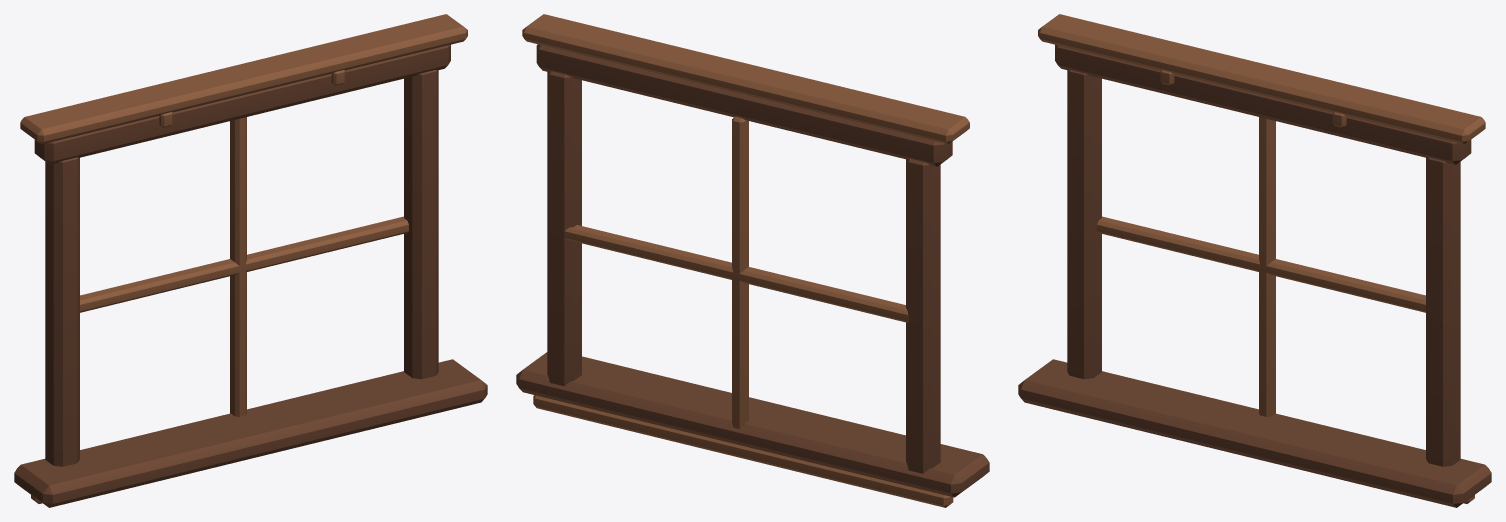
Rendered from janela.glb.
3 renders of one model, left to right at view 1: azimuth 30°, elevation 25°; view 2: azimuth 150°, elevation 25°; view 3: azimuth 330°, elevation 25°, orthographic.
Parts seen in each view (by area): view 1: caixilho; view 2: caixilho; view 3: caixilho.
Part boxes in pixels (x1,y1,x2,y2): caixilho: (14, 14, 487, 507); caixilho: (516, 14, 989, 507); caixilho: (1018, 14, 1491, 507).
Bounding box in the file's own units: 1.86 × 1.53 × 0.26.
